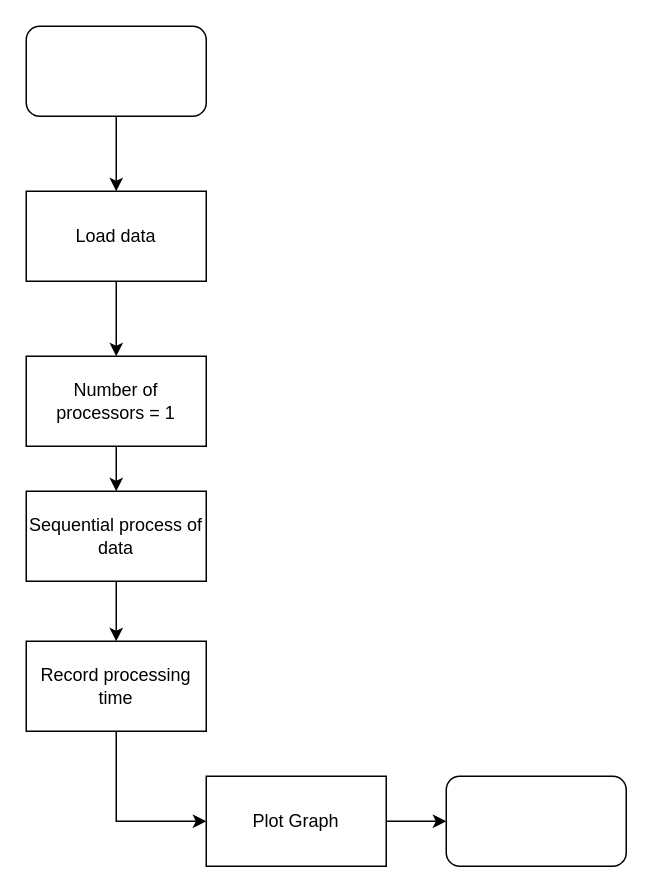
This 653x893 diagram has some shape labels left out. Each missing label, with the centre of its shape:
"End" belongs at (535,820).
"Start" belongs at (115,70).
